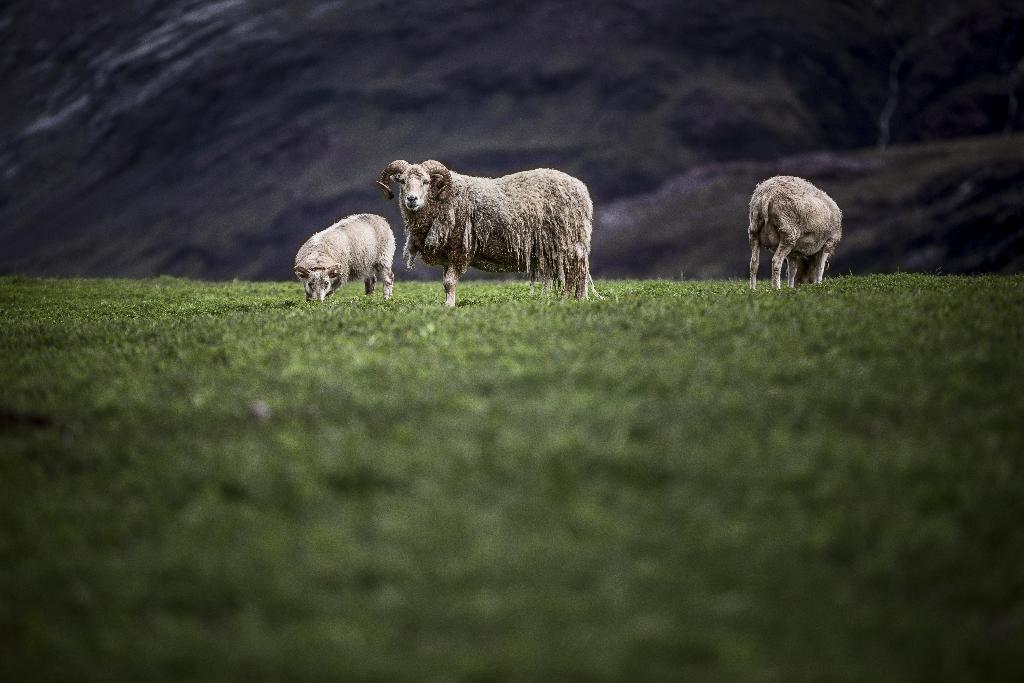sheep: (377, 159, 604, 305), (743, 175, 839, 297), (292, 214, 393, 304)
